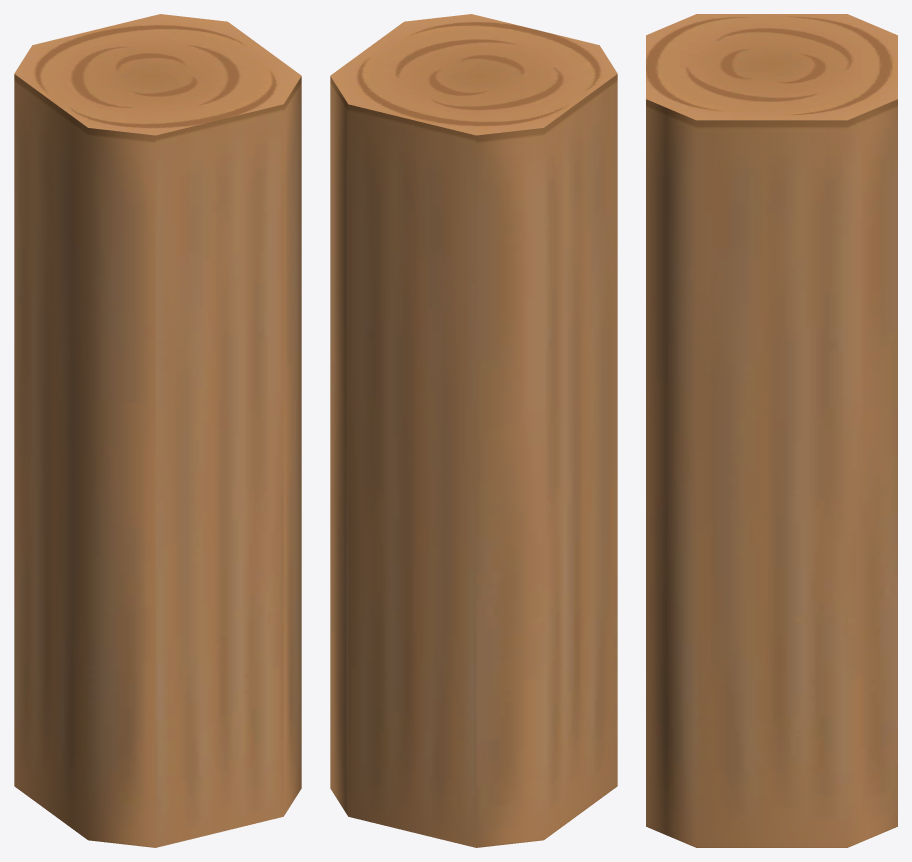
Rendered from PalmWoodFencePostHand.fbx.
3 renders of one model, left to right at view 1: azimuth 30°, elevation 25°; view 2: azimuth 150°, elevation 25°; view 3: azimuth 270°, elevation 25°, orthographic. The views are drawn at different scales.
Parts seen in each view (by area): view 1: FencePost; view 2: FencePost; view 3: FencePost.
Boxes of the visible parts, box(x1,y1,x2,y2) form: FencePost: box(14, 14, 301, 847); FencePost: box(330, 14, 617, 847); FencePost: box(646, 14, 897, 847).
Bounding box in the file's own units: 0.2781 × 0.8861 × 0.2781.
1 material, 1 textured.
